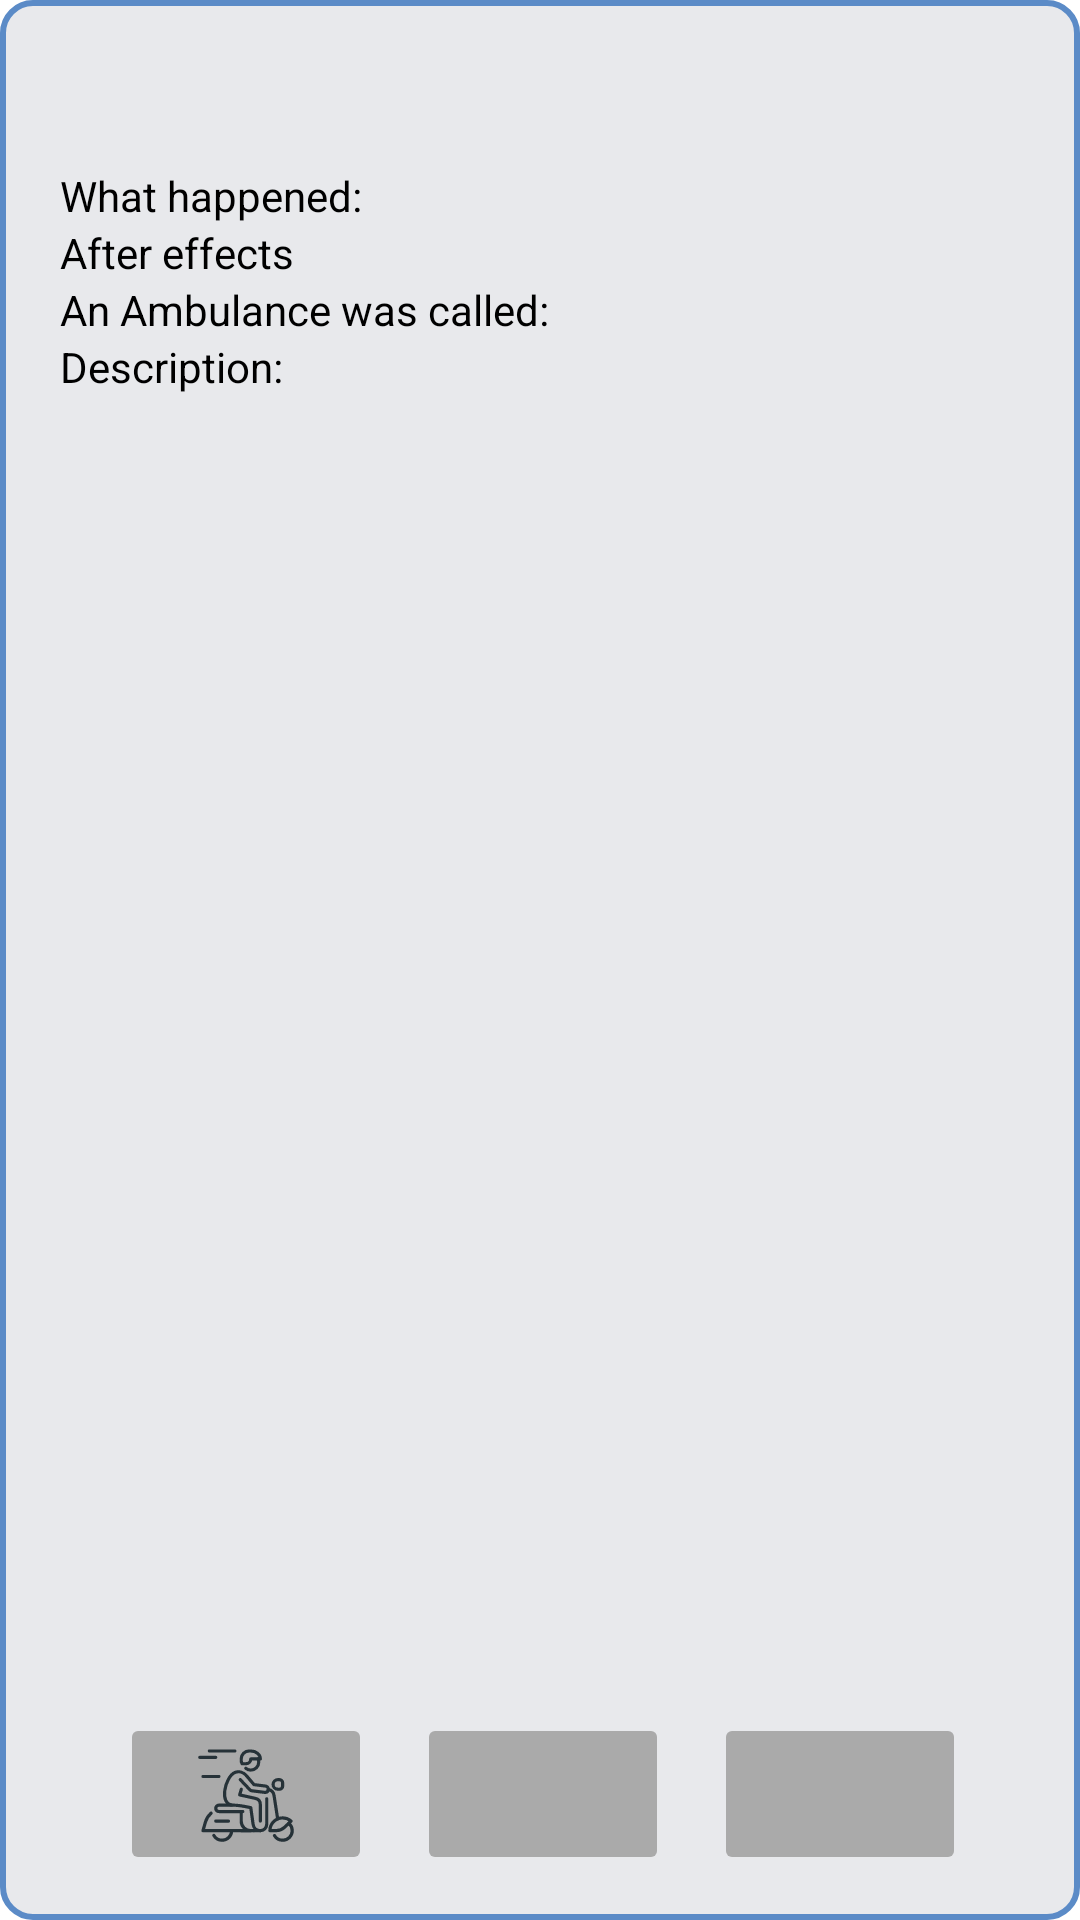

Point at icon controls on the screen. Image size 1080x1920, points as [x,y].
motorbike: [246,1794]
